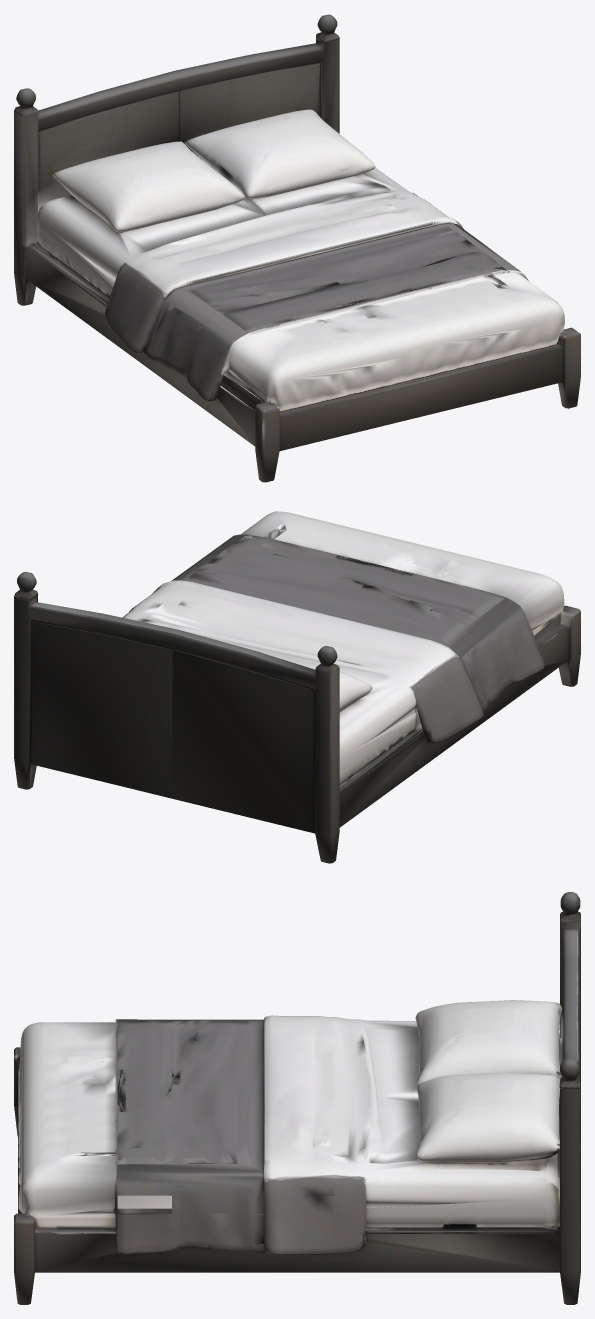
The model's file is double_bed_realistic_style_3ea1c29f_v1.glb.
3 views of the same model, one above another, from view 1: azimuth 30°, elevation 25°; view 2: azimuth 150°, elevation 25°; view 3: azimuth 270°, elevation 25° (orthographic). The views are drawn at different scales.
Parts seen in each view (by area): view 1: texture_pbr_20250901; view 2: texture_pbr_20250901; view 3: texture_pbr_20250901.
Boxes of the visible parts, x1,y1,x2,y2 form: texture_pbr_20250901: (14, 14, 580, 482); texture_pbr_20250901: (14, 511, 580, 863); texture_pbr_20250901: (14, 892, 580, 1304).
Size of the model in its own units: 1.54 by 0.8944 by 1.9.
1 material, 1 textured.
